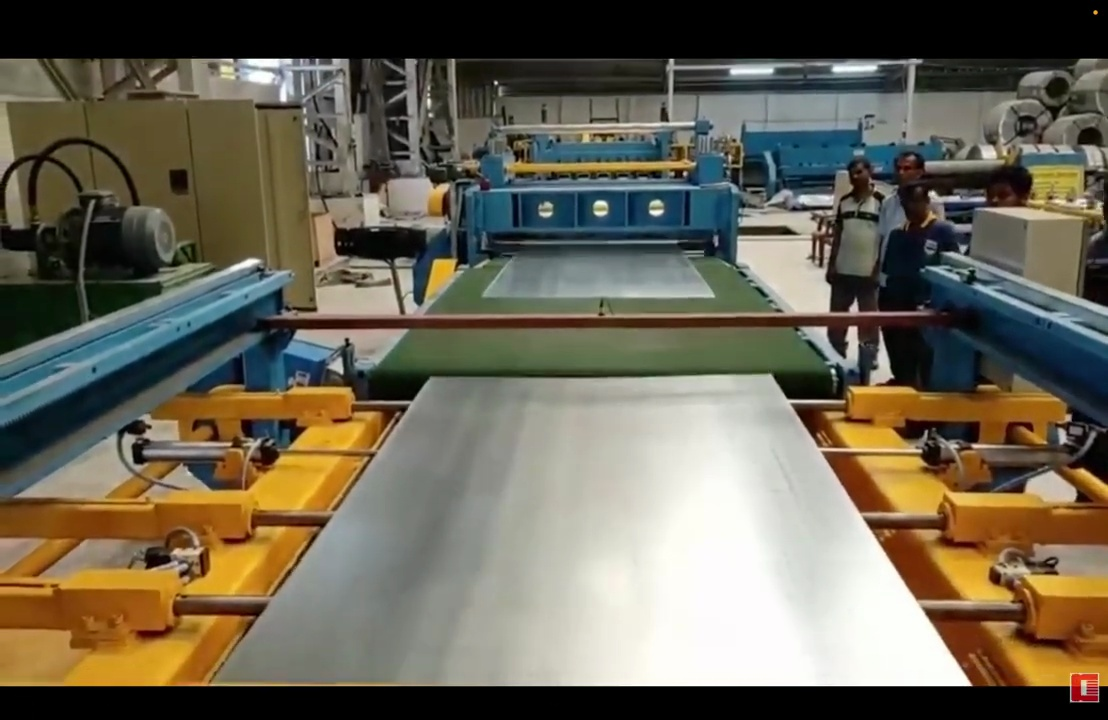steel plate: (216, 376, 967, 685), (483, 248, 713, 298)
